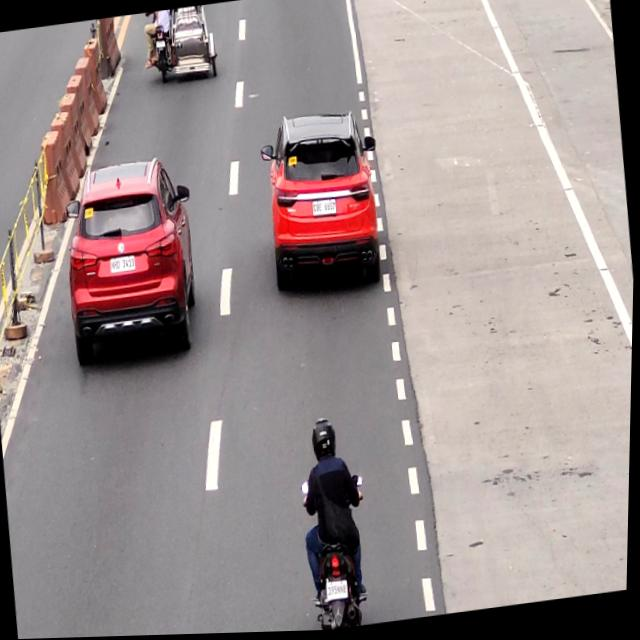Car: (55, 151, 207, 371), (256, 109, 387, 302)
License-Plate: (107, 253, 139, 274), (327, 582, 351, 604), (312, 201, 338, 219)
Motorcycle: (292, 412, 378, 633)
Tricycle: (138, 4, 223, 89)
